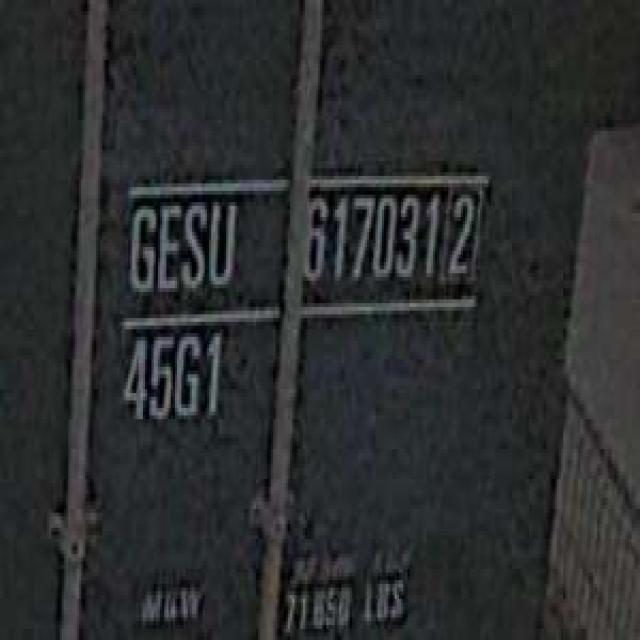dv: (444, 172, 488, 288)
owner: (122, 191, 239, 303)
serial: (301, 187, 437, 296)
size: (117, 322, 224, 430)
